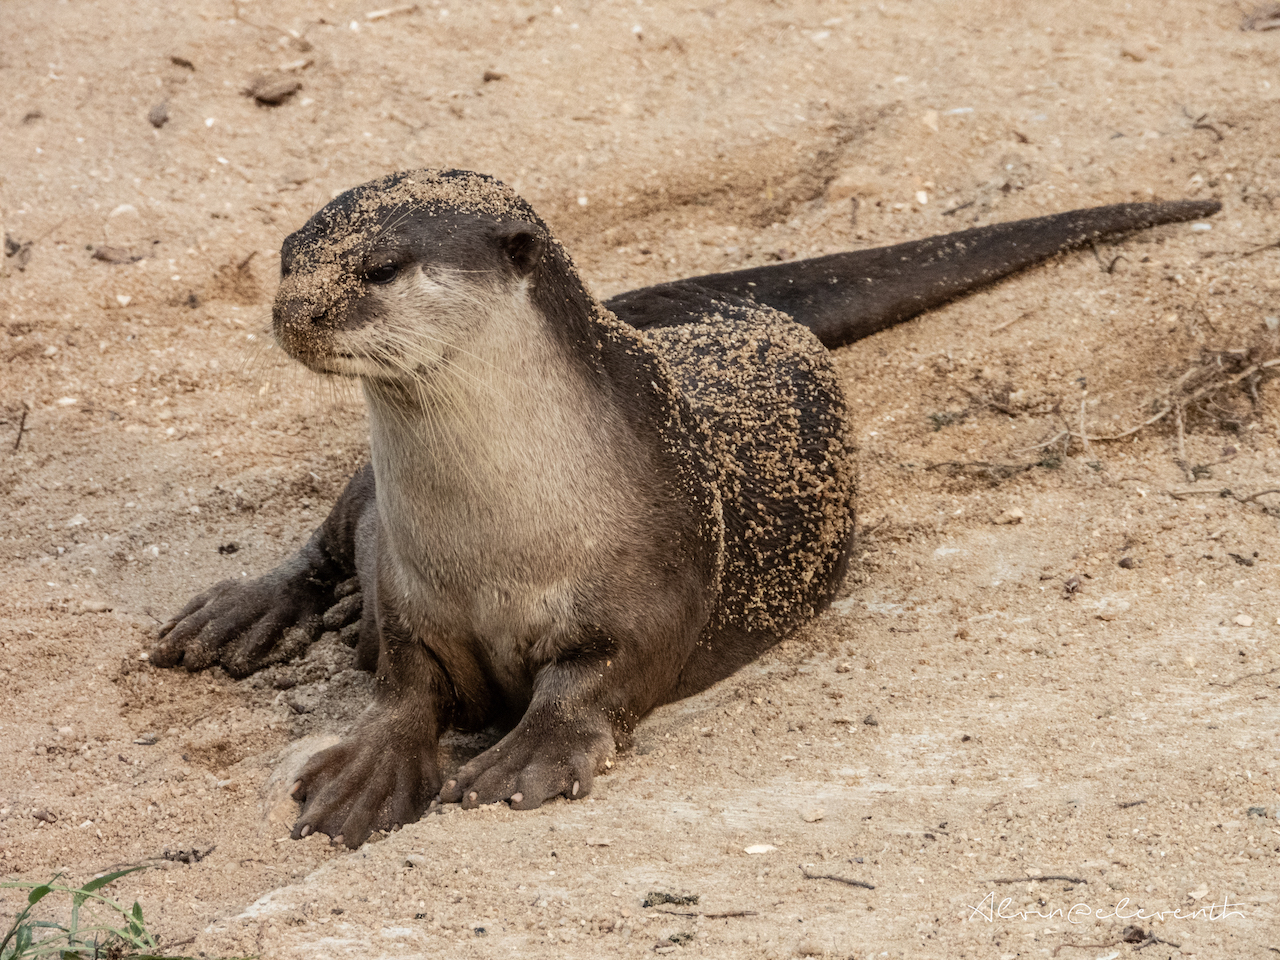otter: (134, 145, 1235, 850)
